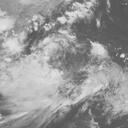cyclone: (24, 38, 109, 103)
